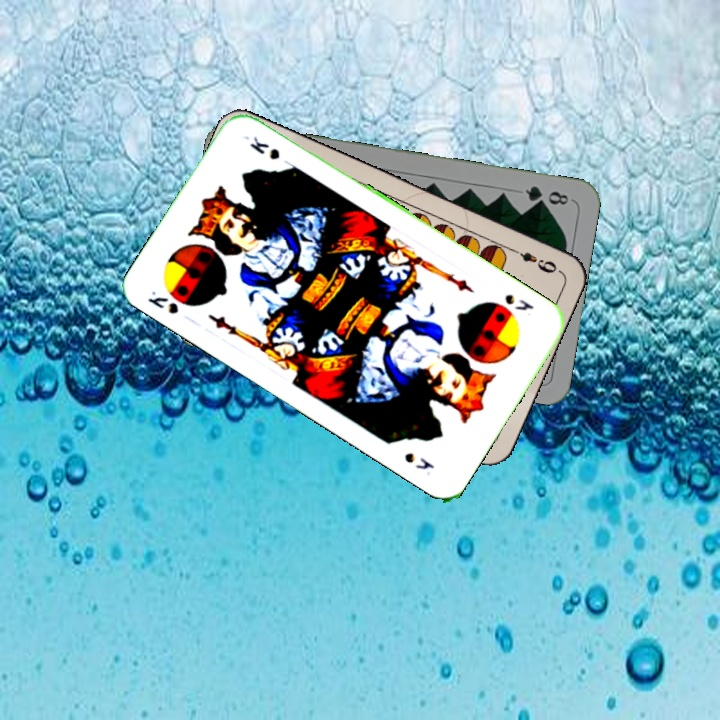E9: (507, 244, 560, 276)
G8: (521, 181, 571, 208)
SK: (143, 286, 181, 317), (500, 290, 537, 314)
